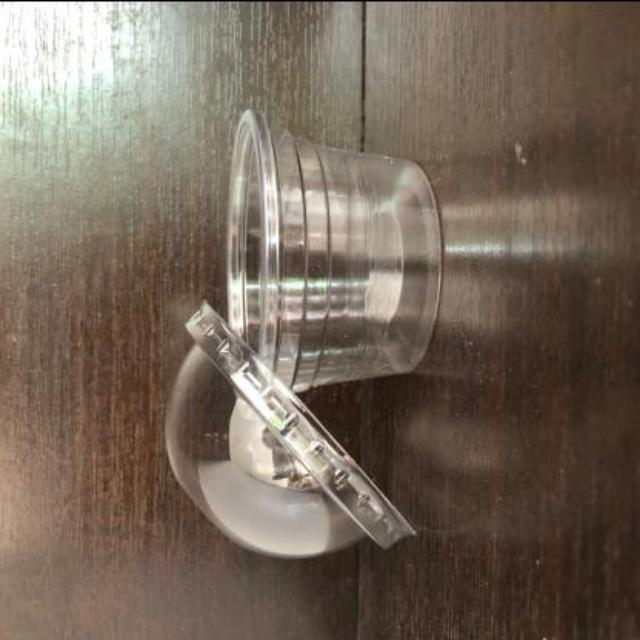plastic_box: (231, 108, 443, 418), (162, 302, 414, 554)
